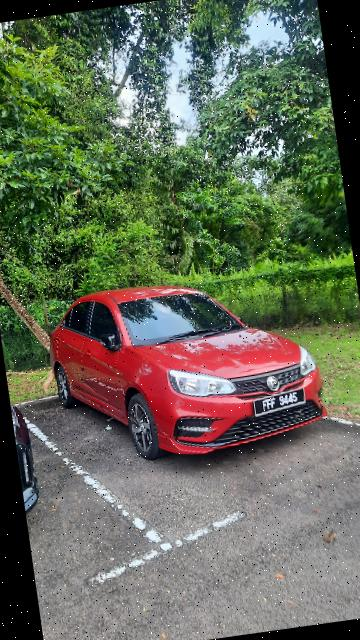License_Plate: (250, 386, 310, 420)
car: (35, 257, 335, 479)
